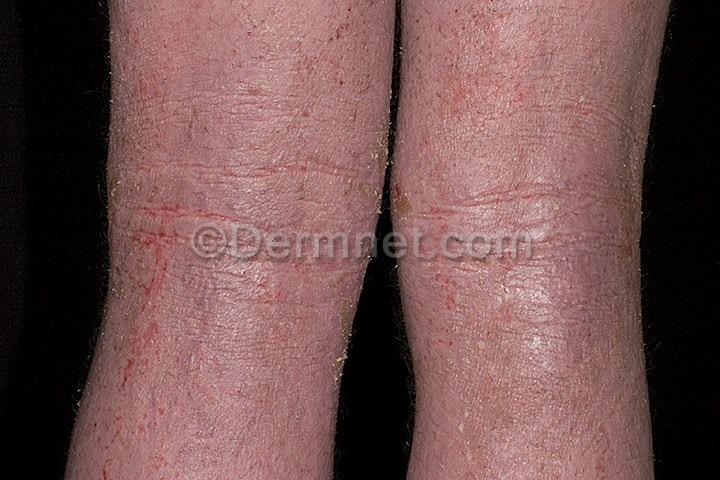Eczema: (407, 5, 653, 480), (115, 2, 354, 480)
